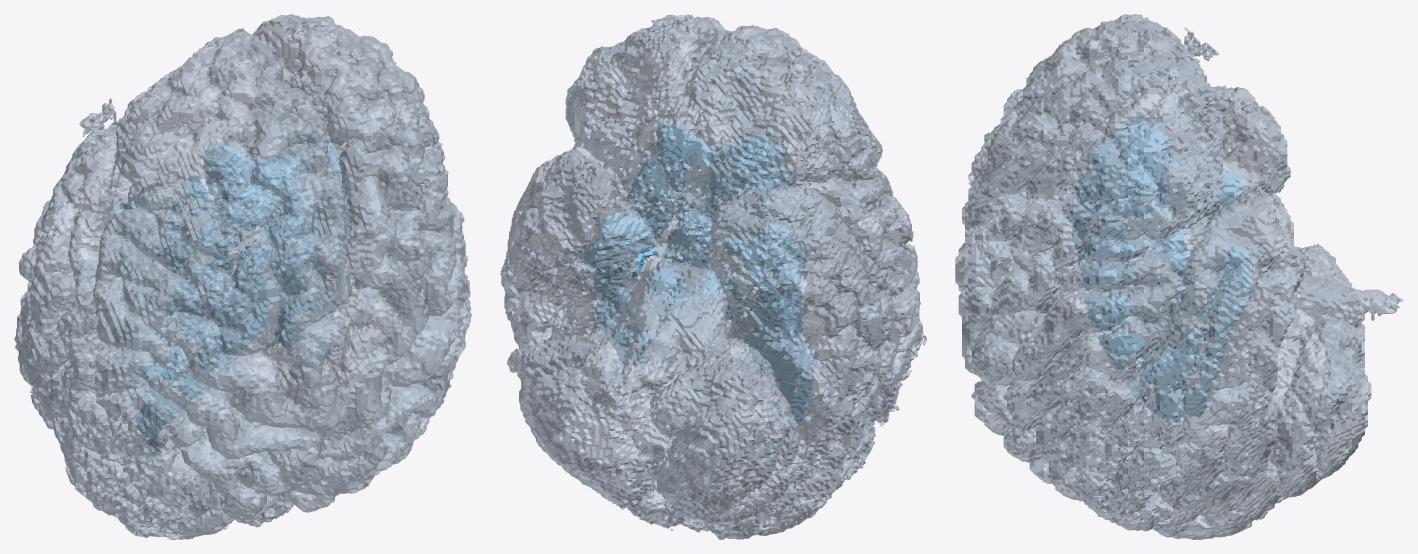
The model's file is crl_104_clean_brain.glb.
The picture shows the model from 3 angles, left to right: view 1: azimuth 30°, elevation 25°; view 2: azimuth 150°, elevation 25°; view 3: azimuth 270°, elevation 25°; orthographic projection. The views are drawn at different scales.
Parts seen in each view (by area): view 1: BrainSurface, Right_Lateral_Ventricle, Left_Lateral_Ventricle, Right_Caudate, Right_Putamen, Right_Thalamus; view 2: BrainSurface, Right_Lateral_Ventricle, Left_Thalamus, Left_Lateral_Ventricle, Left_Hippocampus, Right_Hippocampus, Right_Putamen, Right_Caudate, Left_Putamen, Left_Amygdala, Left_Caudate, Left_Pallidum (+1 smaller); view 3: BrainSurface, Left_Lateral_Ventricle, Right_Lateral_Ventricle, Left_Caudate, Left_Hippocampus, Left_Putamen, Left_Amygdala, Right_Amygdala.
Boxes of the visible parts, x1,y1,x2,y2 form: BrainSurface: [14, 14, 471, 539]; Right_Lateral_Ventricle: [117, 142, 292, 461]; Left_Lateral_Ventricle: [264, 135, 342, 359]; Right_Caudate: [203, 154, 251, 314]; Right_Putamen: [157, 175, 216, 308]; Right_Thalamus: [166, 235, 223, 326]; BrainSurface: [500, 14, 926, 539]; Right_Lateral_Ventricle: [709, 135, 818, 461]; Left_Thalamus: [643, 212, 711, 319]; Left_Lateral_Ventricle: [595, 122, 724, 364]; Left_Hippocampus: [583, 238, 670, 332]; Right_Hippocampus: [724, 262, 785, 349]; Right_Putamen: [750, 176, 805, 300]; Right_Caudate: [721, 141, 793, 202]; Left_Putamen: [620, 157, 670, 264]; Left_Amygdala: [599, 213, 657, 247]; Left_Caudate: [655, 146, 685, 218]; Left_Pallidum: [640, 190, 673, 238]; BrainSurface: [955, 14, 1403, 539]; Left_Lateral_Ventricle: [1081, 169, 1219, 421]; Right_Lateral_Ventricle: [1068, 115, 1190, 267]; Left_Caudate: [1084, 186, 1170, 322]; Left_Hippocampus: [1187, 262, 1251, 359]; Left_Putamen: [1114, 208, 1187, 320]; Left_Amygdala: [1216, 243, 1251, 275]; Right_Amygdala: [1194, 171, 1245, 212].
Size of the model in its own units: 134 by 169 by 139.
